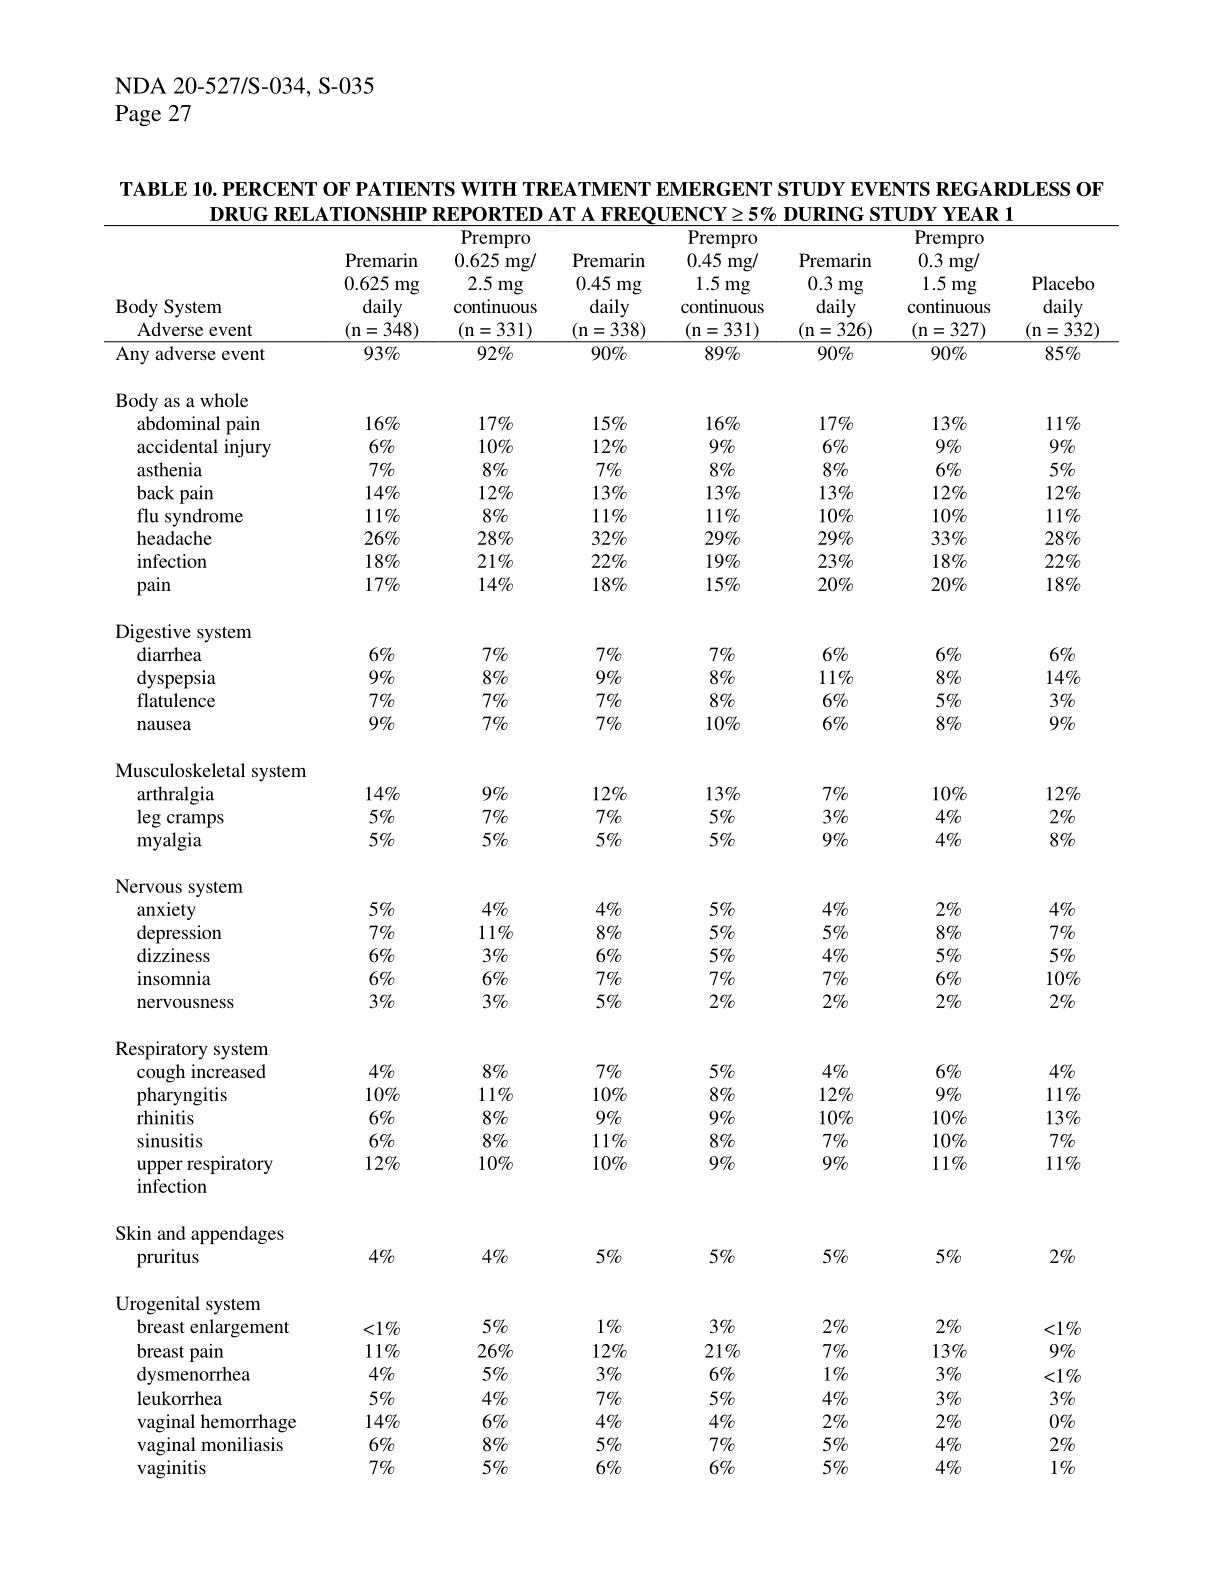partial_lined: (102, 222, 1121, 1482)
